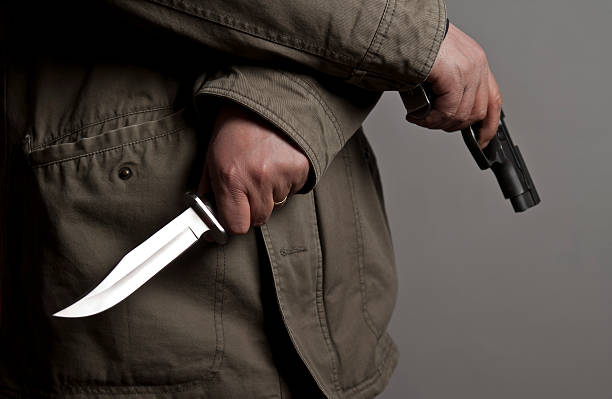gun: (400, 83, 542, 214)
knife: (50, 189, 227, 318)
